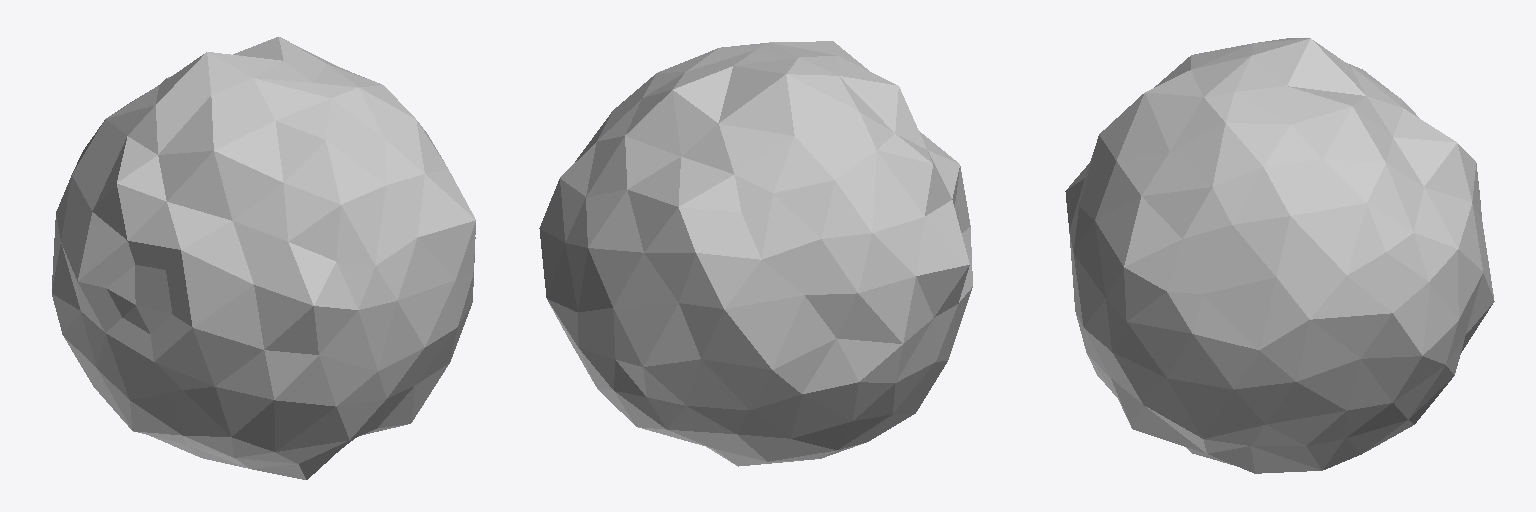
File: mercury.obj
3 views of the same model, side by side, from view 1: azimuth 30°, elevation 25°; view 2: azimuth 150°, elevation 25°; view 3: azimuth 270°, elevation 25° (orthographic).
Visible parts, largest first — view 1: Mercury; view 2: Mercury; view 3: Mercury.
Boxes of the visible parts, x1=… form: Mercury: x1=52, y1=37, x2=475, y2=479; Mercury: x1=539, y1=41, x2=972, y2=466; Mercury: x1=1065, y1=38, x2=1494, y2=473.
Size of the model in its own units: 0.8034 by 0.8122 by 0.7851.